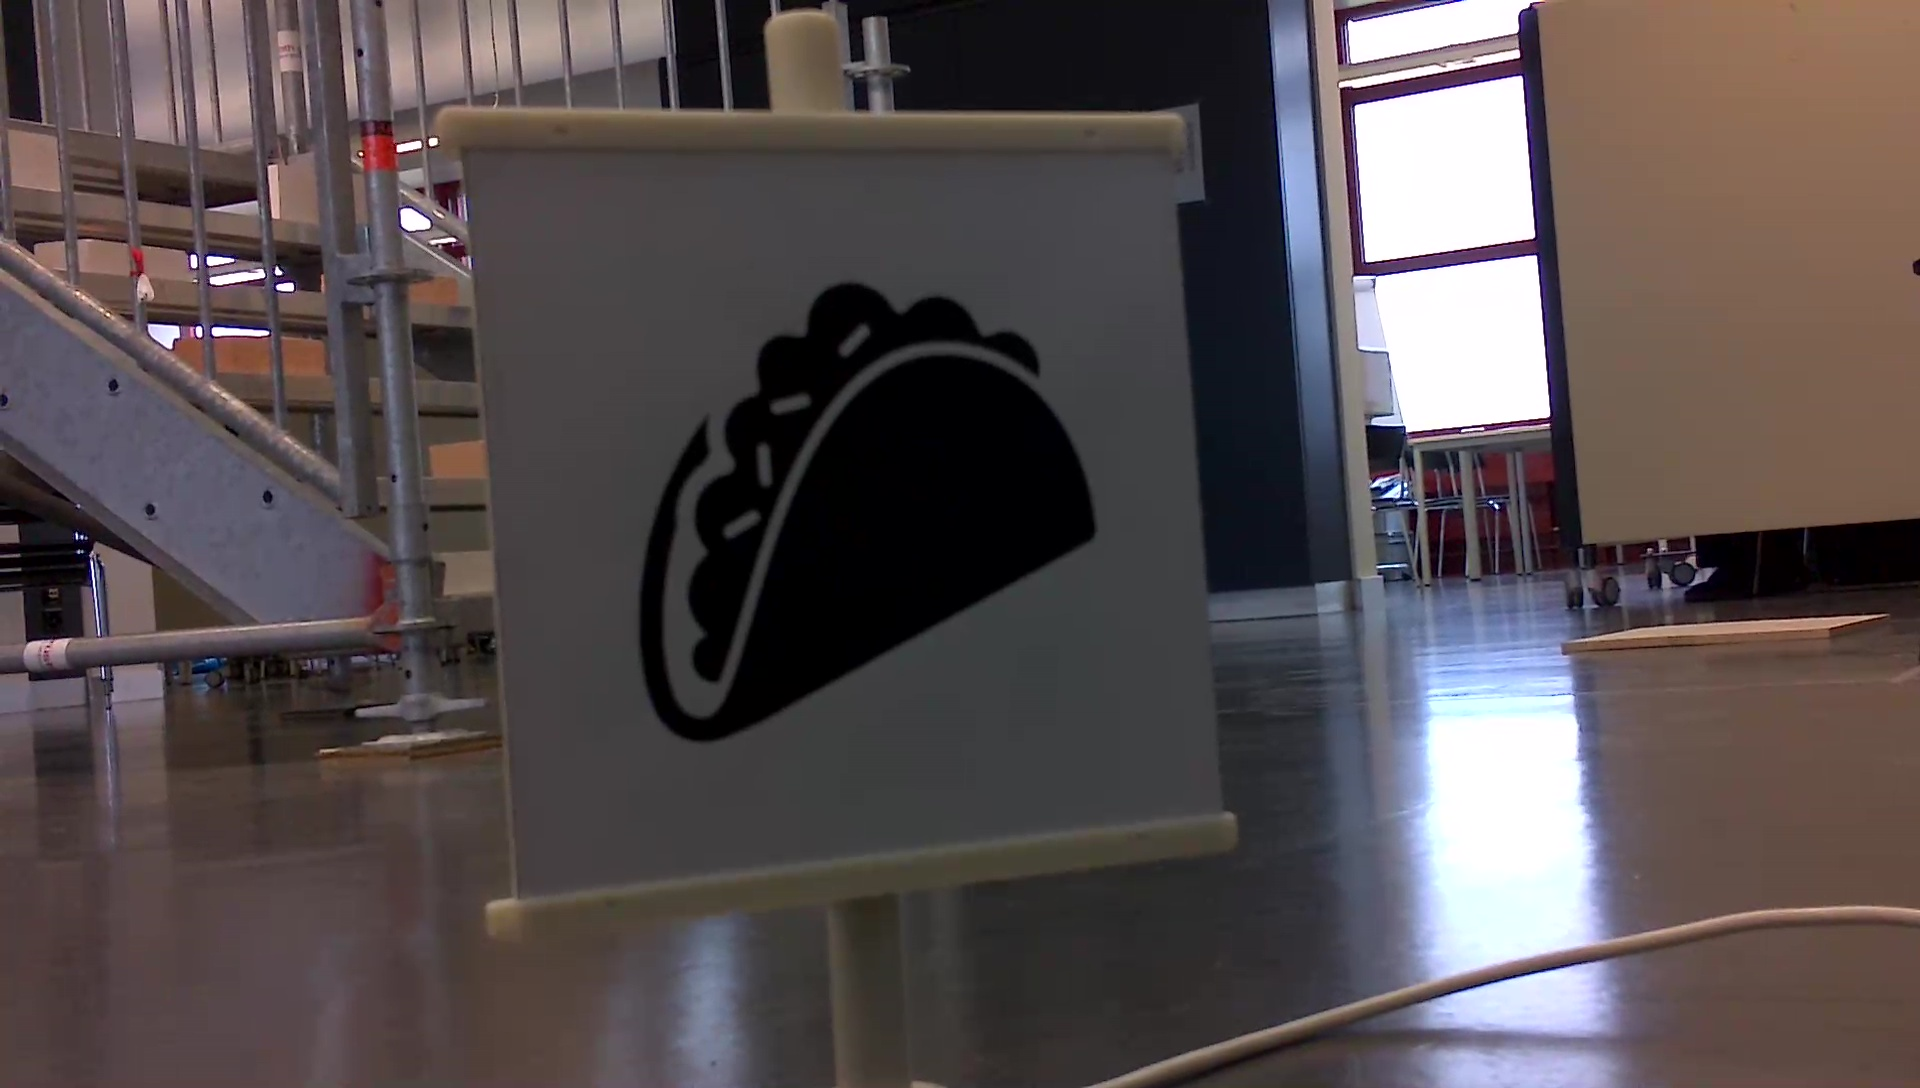brick: (444, 546, 492, 593), (429, 440, 485, 477)
taco: (622, 270, 1105, 756)
